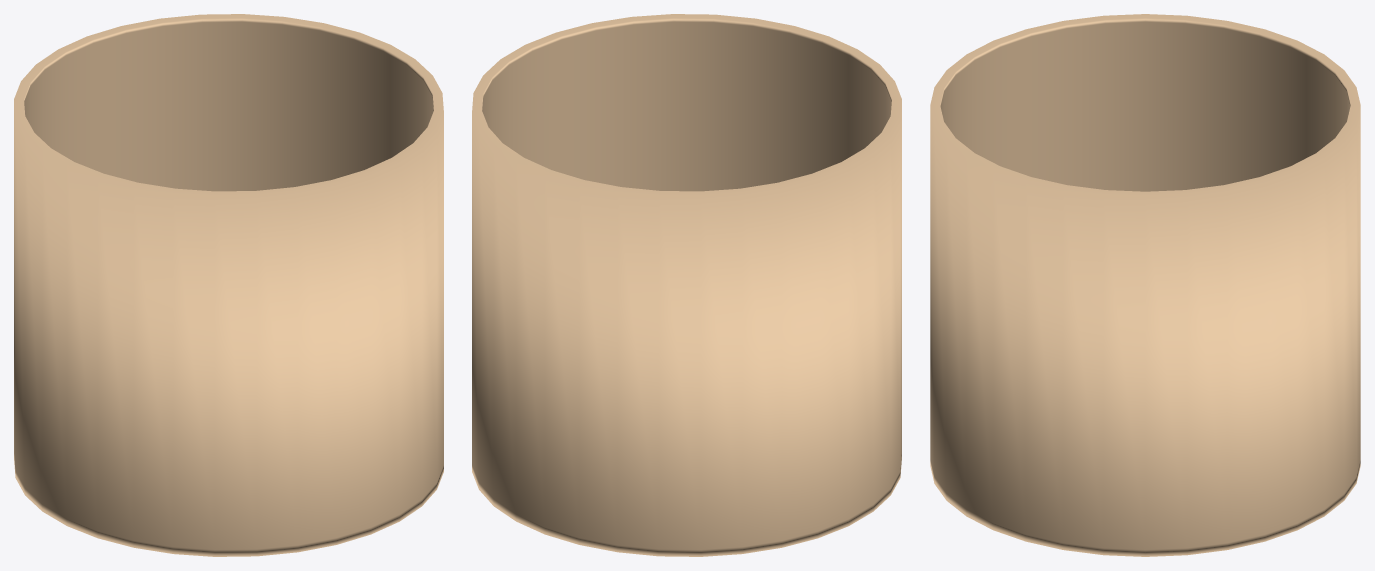
File: FAROL.fbx
3 views of the same model, side by side, from view 1: azimuth 30°, elevation 25°; view 2: azimuth 150°, elevation 25°; view 3: azimuth 270°, elevation 25° (orthographic).
Visible parts, largest first — view 1: Cylinder; view 2: Cylinder; view 3: Cylinder.
Part boxes in pixels (x1=…): Cylinder: x1=14, y1=14, x2=443, y2=556; Cylinder: x1=472, y1=14, x2=901, y2=556; Cylinder: x1=930, y1=14, x2=1360, y2=556.
Bounding box in the file's own units: 1781 × 1649 × 1781.
